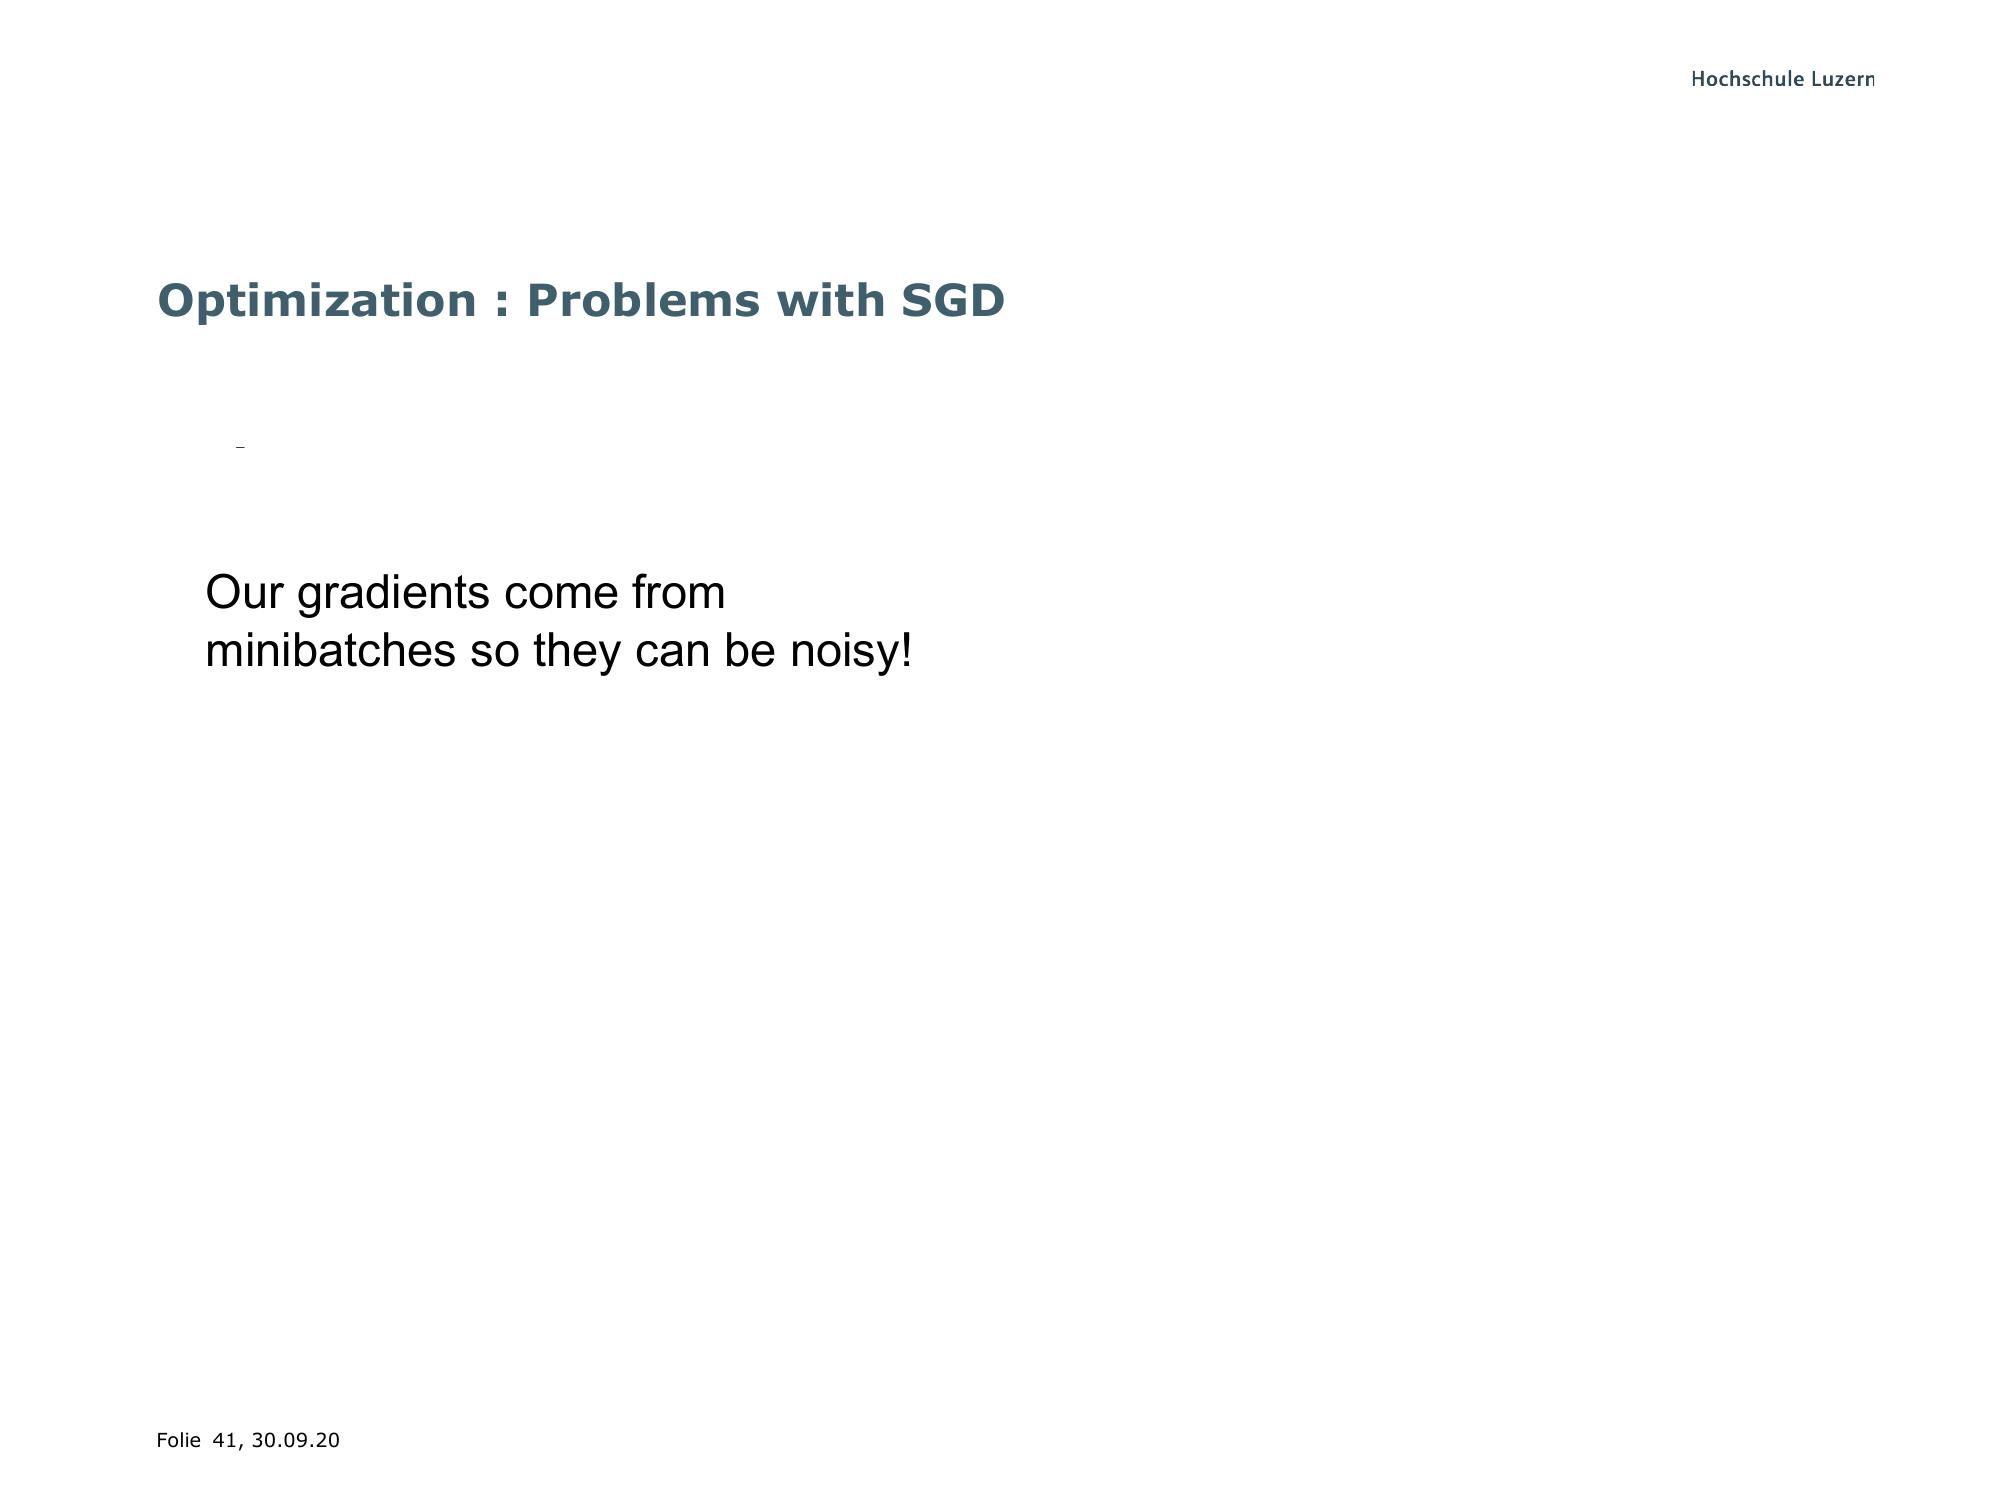Title: (139, 262, 1013, 342)
